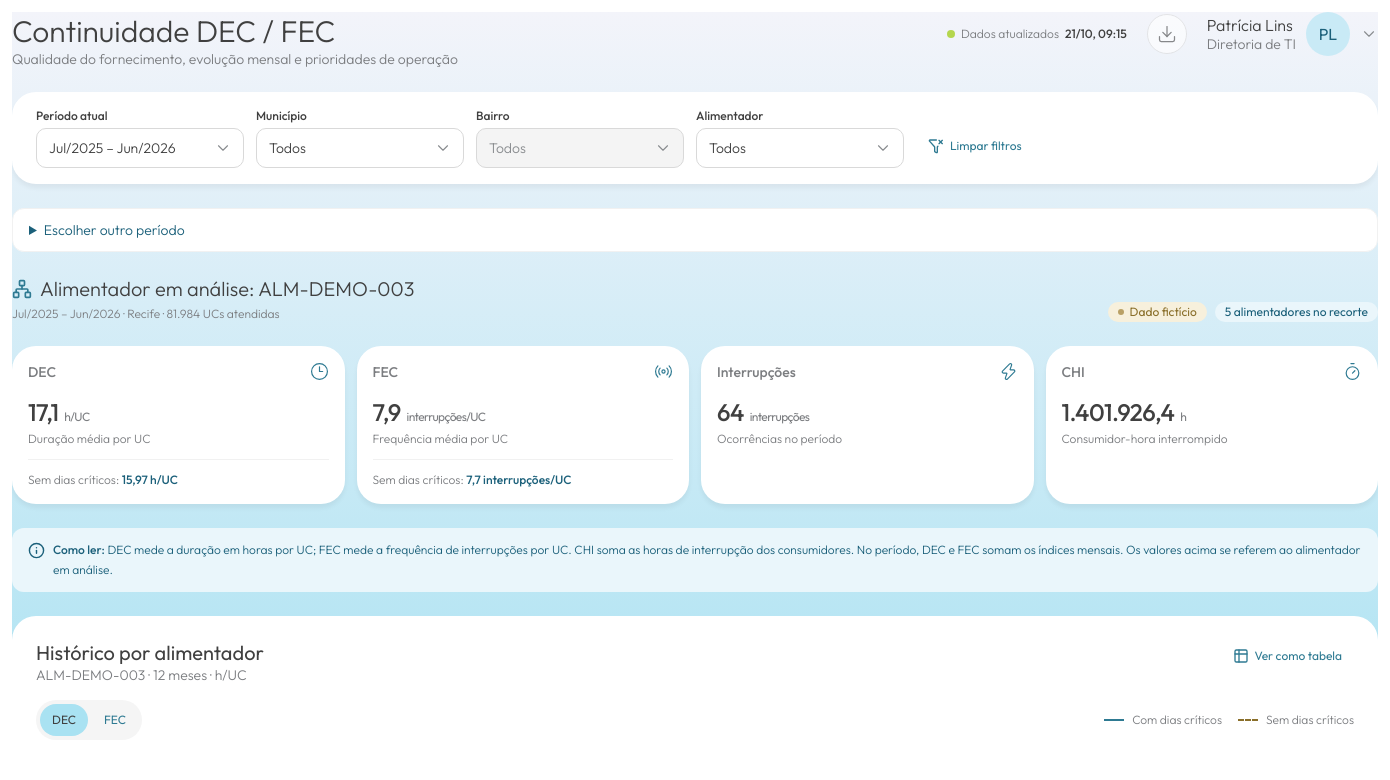
Test case: Tela 6 — Operação › permite selecionar alimentador diretamente no filtro global
Check: the element named "Indicadores de ALM-DEMO-003" is shown, box [12,346,1378,504]
Select "ALM-DEMO-005" in the dropdown labelled "Alimentador": coordinates (800, 148) [696,128,904,168]
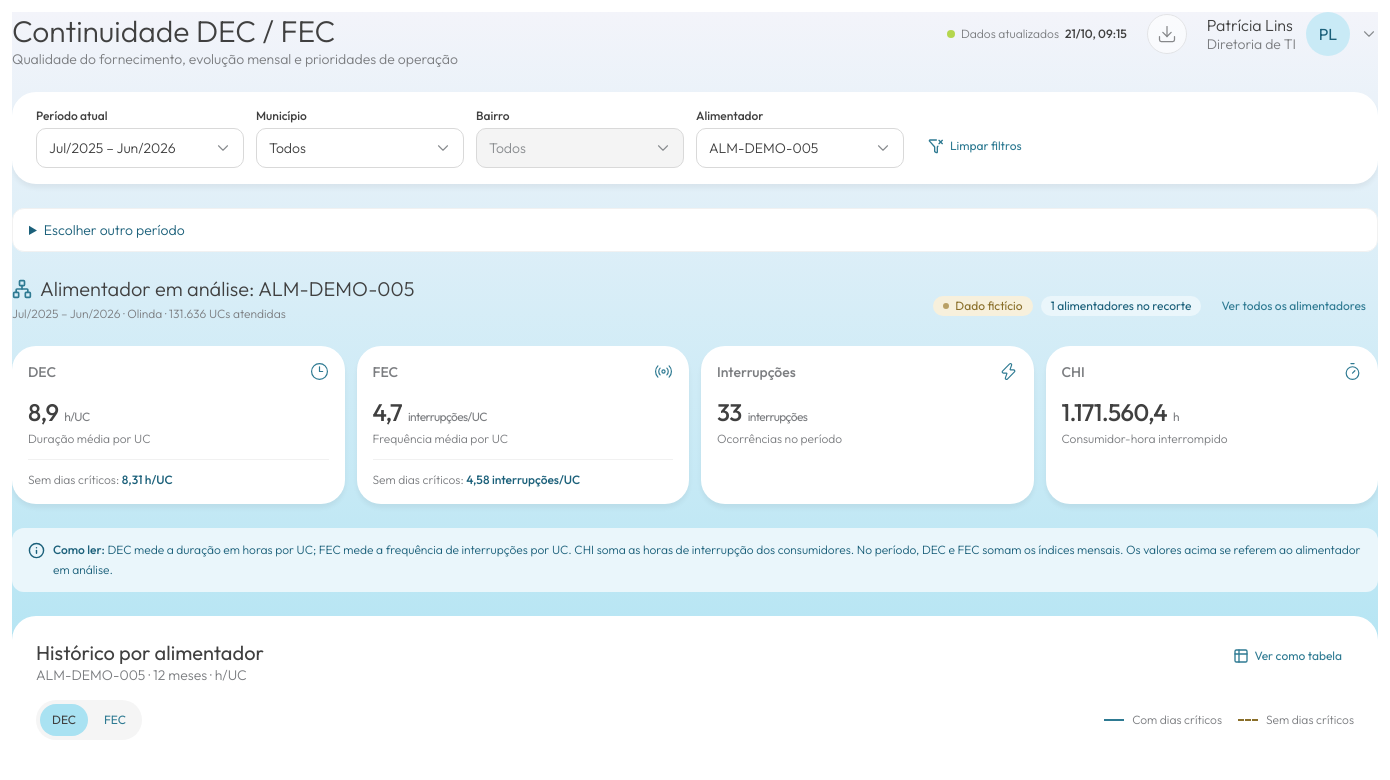
Check: the element named "Indicadores de ALM-DEMO-005" is shown, box [12,346,1378,504]
